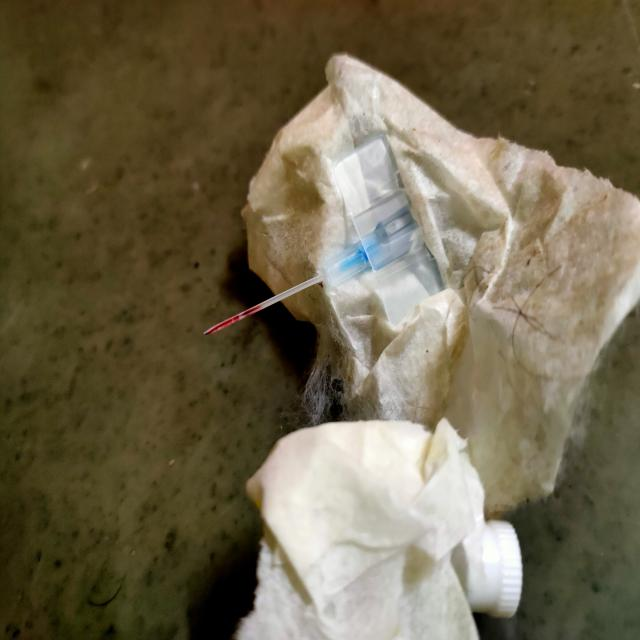B3: (203, 128, 445, 339)
